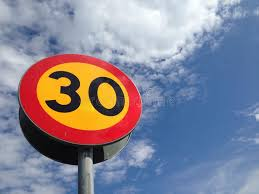Speed_limit_30km: (19, 54, 145, 147)
